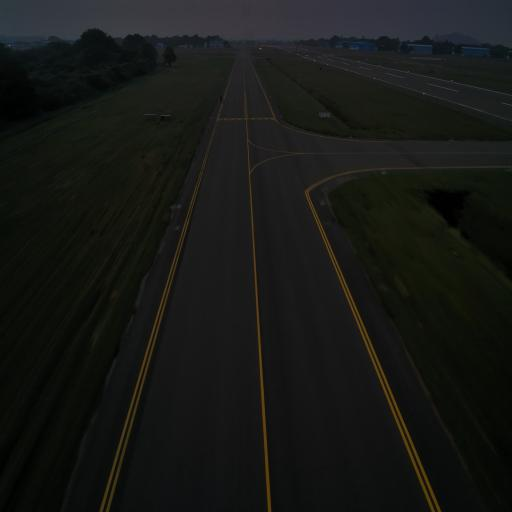on: (382, 168, 386, 174), (321, 198, 324, 205), (177, 201, 180, 207), (350, 134, 352, 140), (280, 114, 282, 117), (211, 115, 213, 118)
